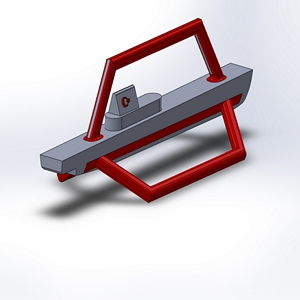submarine: (17, 8, 275, 222)
